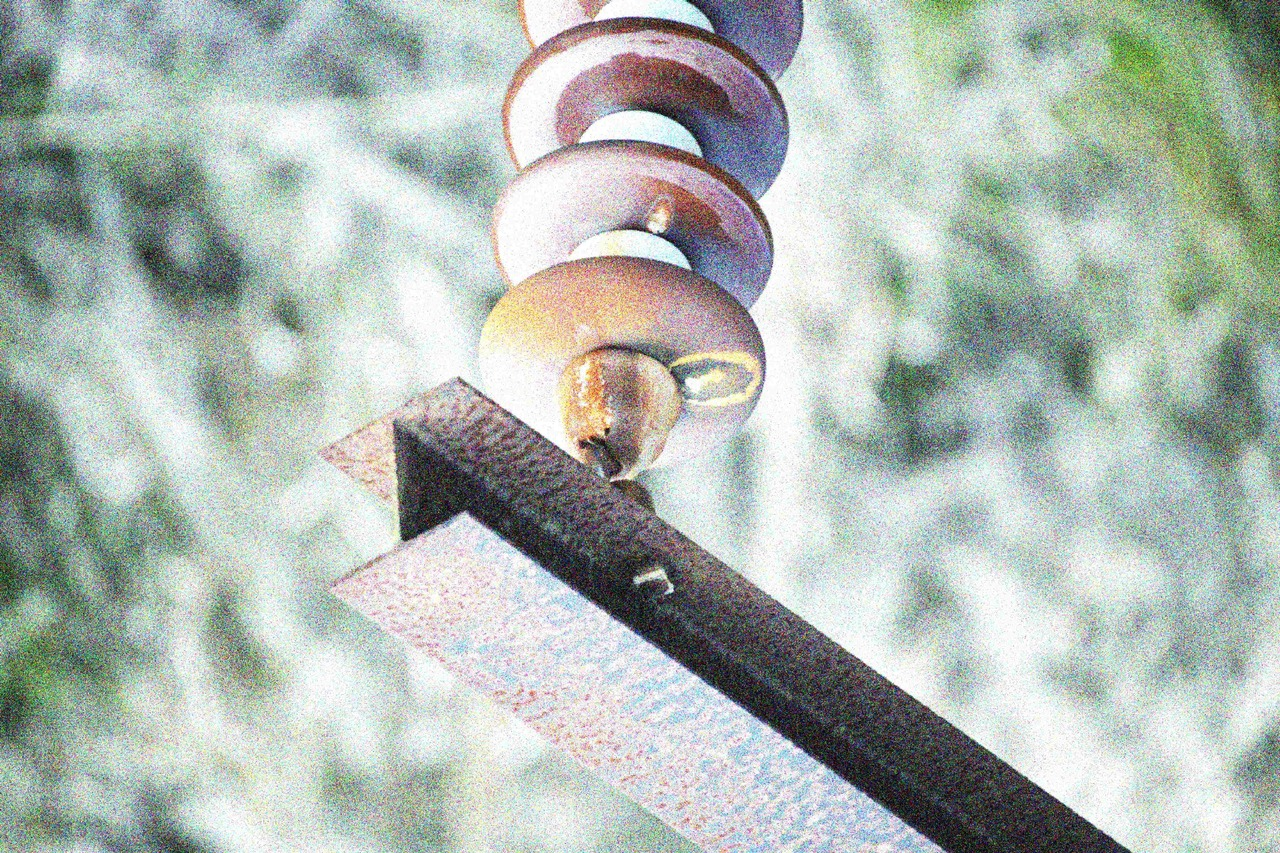Flashover damage: (474, 252, 788, 501), (483, 139, 784, 311)
No issues: (497, 16, 796, 184)
String: (466, 0, 809, 521)
